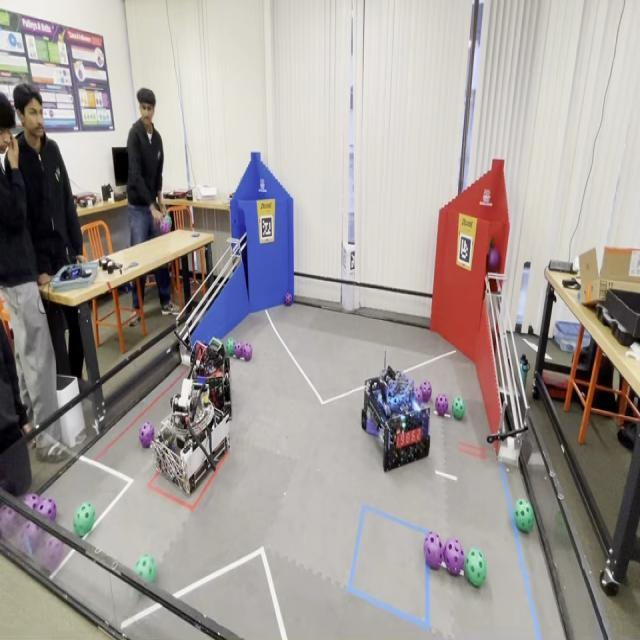artifact_green: (465, 548, 487, 587), (74, 503, 95, 536), (514, 499, 534, 533), (136, 554, 156, 583), (554, 510, 570, 545), (452, 396, 465, 420), (226, 338, 235, 356), (164, 215, 172, 228)
artifact_purple: (36, 534, 64, 572), (18, 521, 43, 555), (444, 539, 464, 574), (424, 533, 443, 568), (0, 505, 17, 539), (38, 498, 56, 521), (140, 421, 154, 447), (488, 245, 500, 272), (435, 394, 448, 415), (23, 494, 40, 509), (420, 381, 431, 402), (242, 343, 252, 361), (414, 386, 423, 404), (234, 342, 243, 359), (160, 220, 170, 234), (285, 293, 293, 306)
